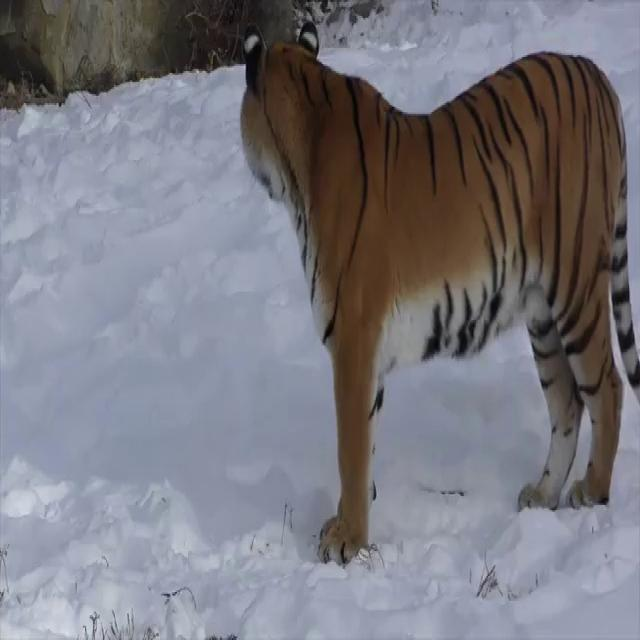tiger: (240, 19, 640, 566)
